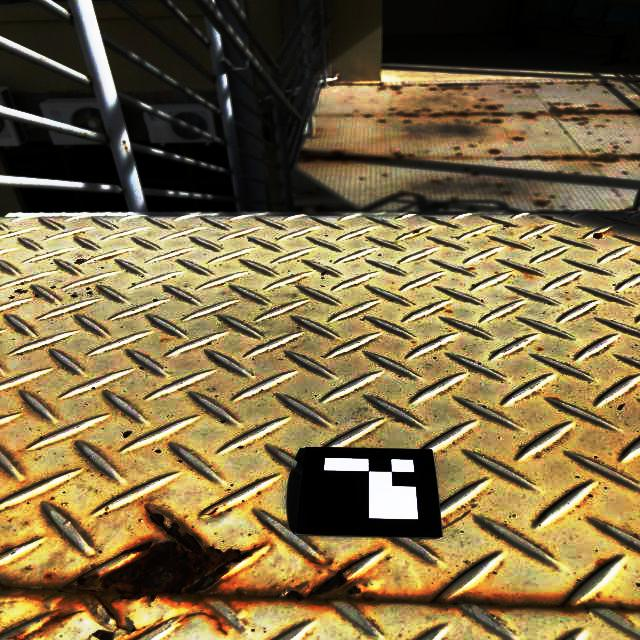Corrosion: (0, 512, 269, 640), (387, 592, 588, 614), (282, 571, 378, 607), (518, 103, 640, 125), (496, 145, 640, 163), (297, 149, 361, 164), (430, 111, 488, 118), (395, 108, 427, 117), (436, 84, 481, 90), (95, 628, 116, 640), (575, 81, 616, 87), (391, 152, 416, 160), (517, 82, 540, 89), (492, 112, 513, 117), (484, 119, 502, 124), (535, 200, 549, 206), (489, 149, 501, 155), (388, 86, 404, 90), (374, 157, 389, 161), (625, 79, 640, 83), (489, 105, 500, 110), (316, 205, 325, 211), (295, 206, 304, 211), (495, 183, 504, 188), (514, 138, 525, 142), (412, 230, 420, 235), (543, 216, 553, 220), (471, 172, 479, 177), (453, 197, 457, 202), (365, 115, 371, 118), (404, 120, 409, 123)
